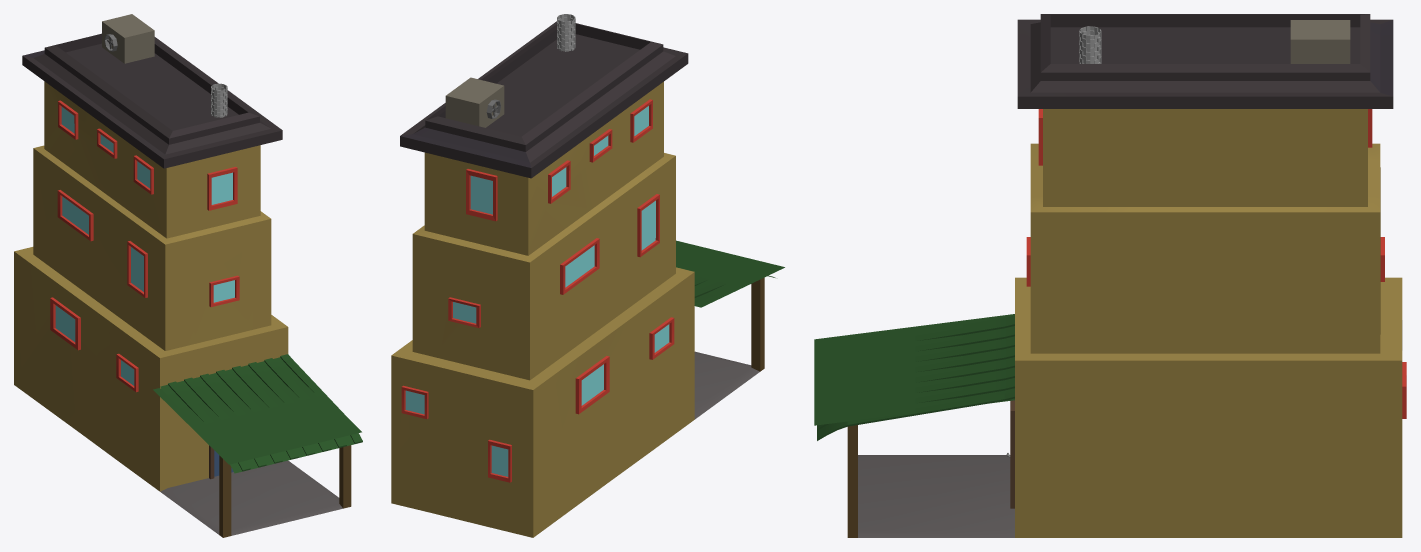
Rendered from Big_Favelahouse 1.fbx.
3 renders of one model, left to right at view 1: azimuth 30°, elevation 25°; view 2: azimuth 150°, elevation 25°; view 3: azimuth 270°, elevation 25°, orthographic. The views are drawn at different scales.
Parts seen in each view (by area): view 1: Big_Favelahouse; view 2: Big_Favelahouse; view 3: Big_Favelahouse.
Boxes of the visible parts, <box> form: Big_Favelahouse: <box>14,14,362,537</box>; Big_Favelahouse: <box>391,14,784,537</box>; Big_Favelahouse: <box>814,14,1406,537</box>.
Size of the model in its own units: 6538 by 16794 by 18746.
